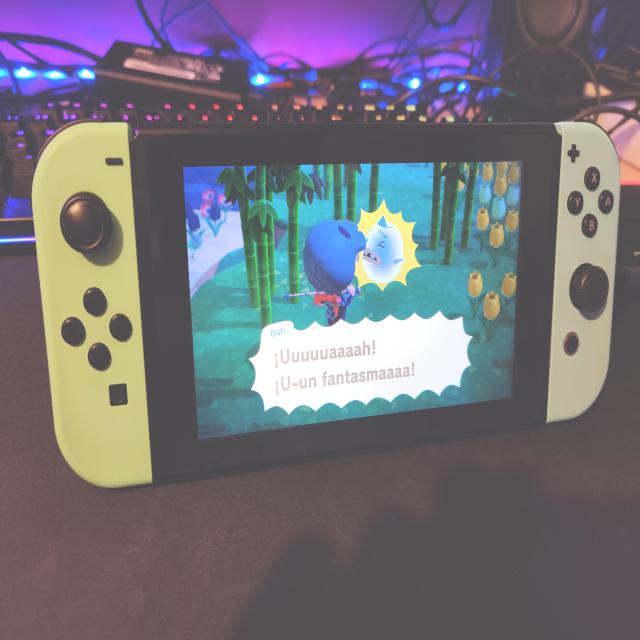text_bubble: (245, 310, 478, 419)
